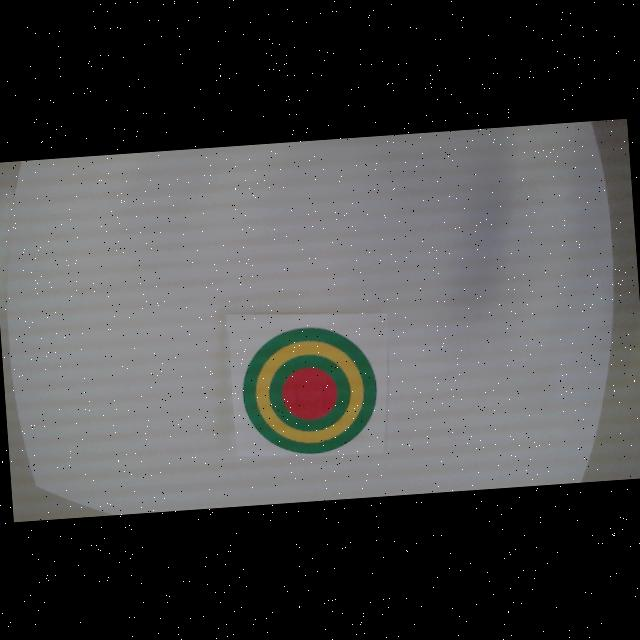COGNITIVE: (238, 322, 380, 461)
